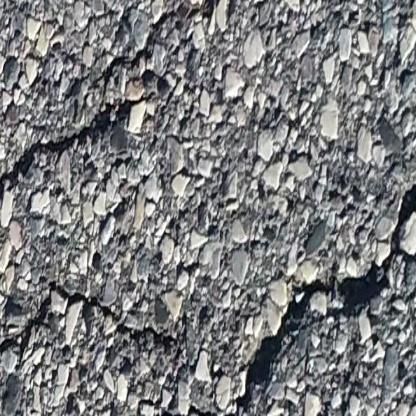Cracks: (0, 0, 311, 216), (231, 173, 416, 416), (0, 260, 233, 416)
